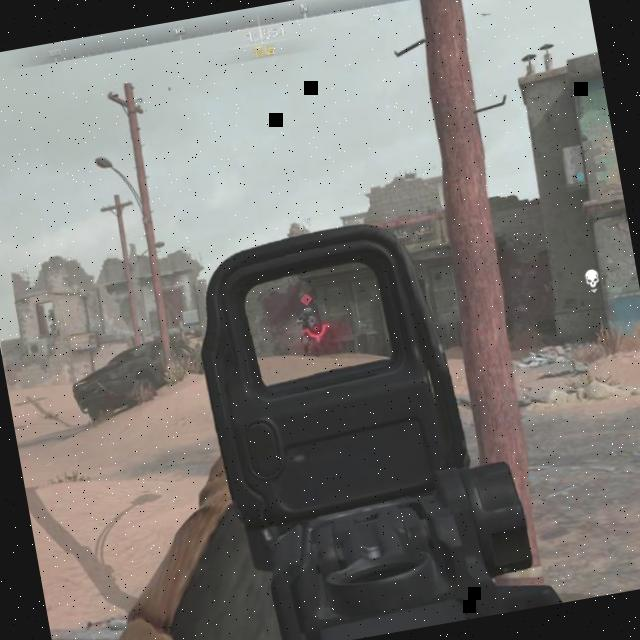MW2_body: (292, 292, 324, 360)
